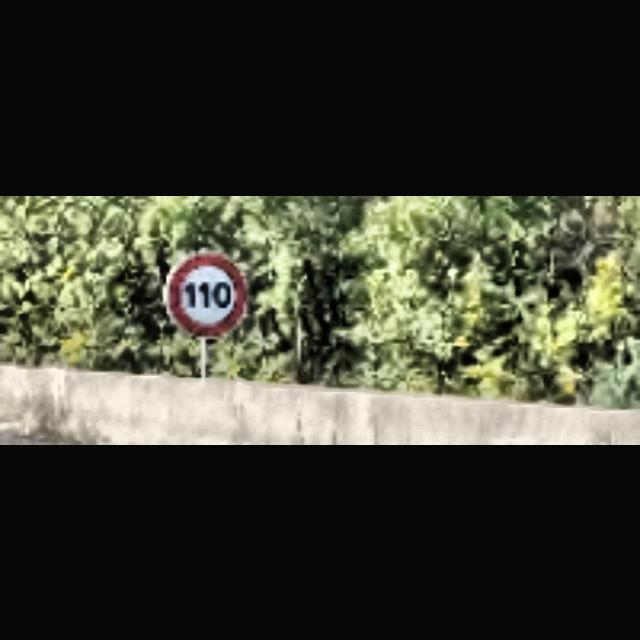speed_110: (166, 250, 250, 340)
